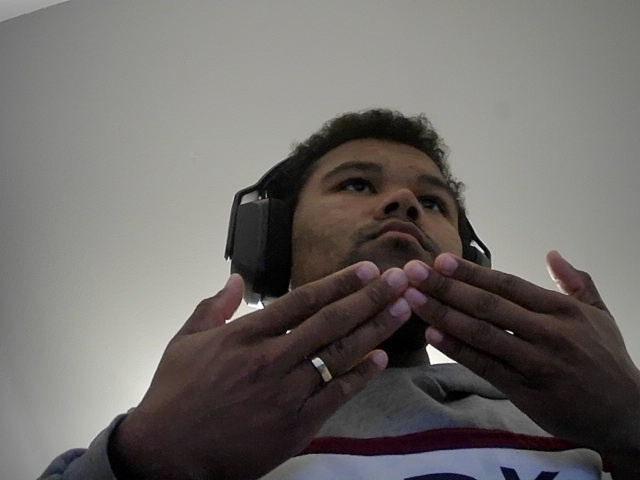ThankYou: (121, 240, 640, 480)
